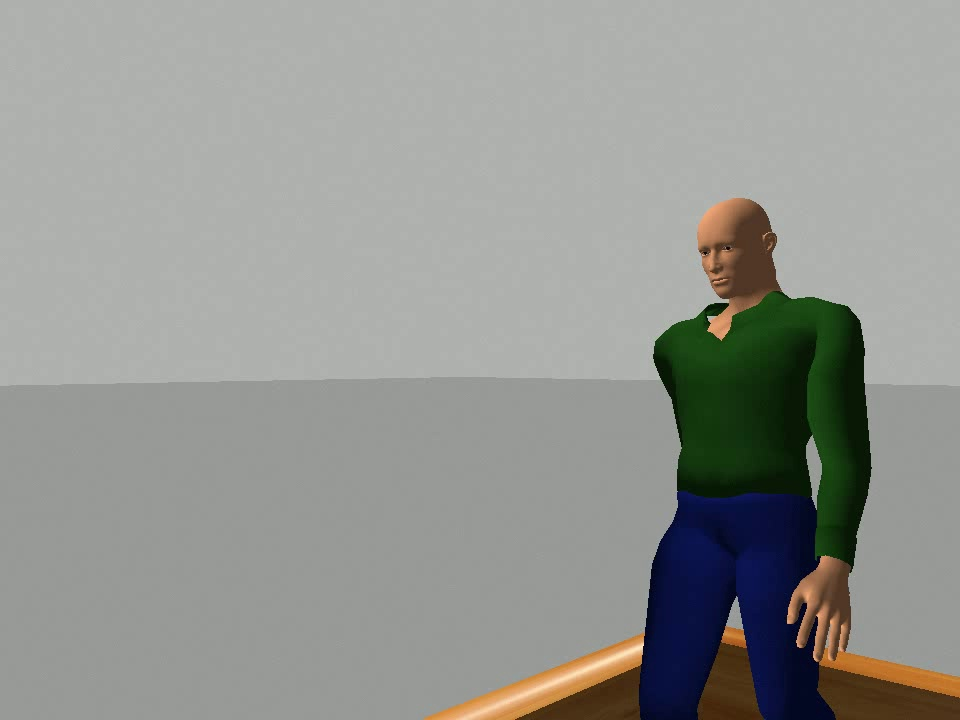person: (631, 193, 877, 720)
